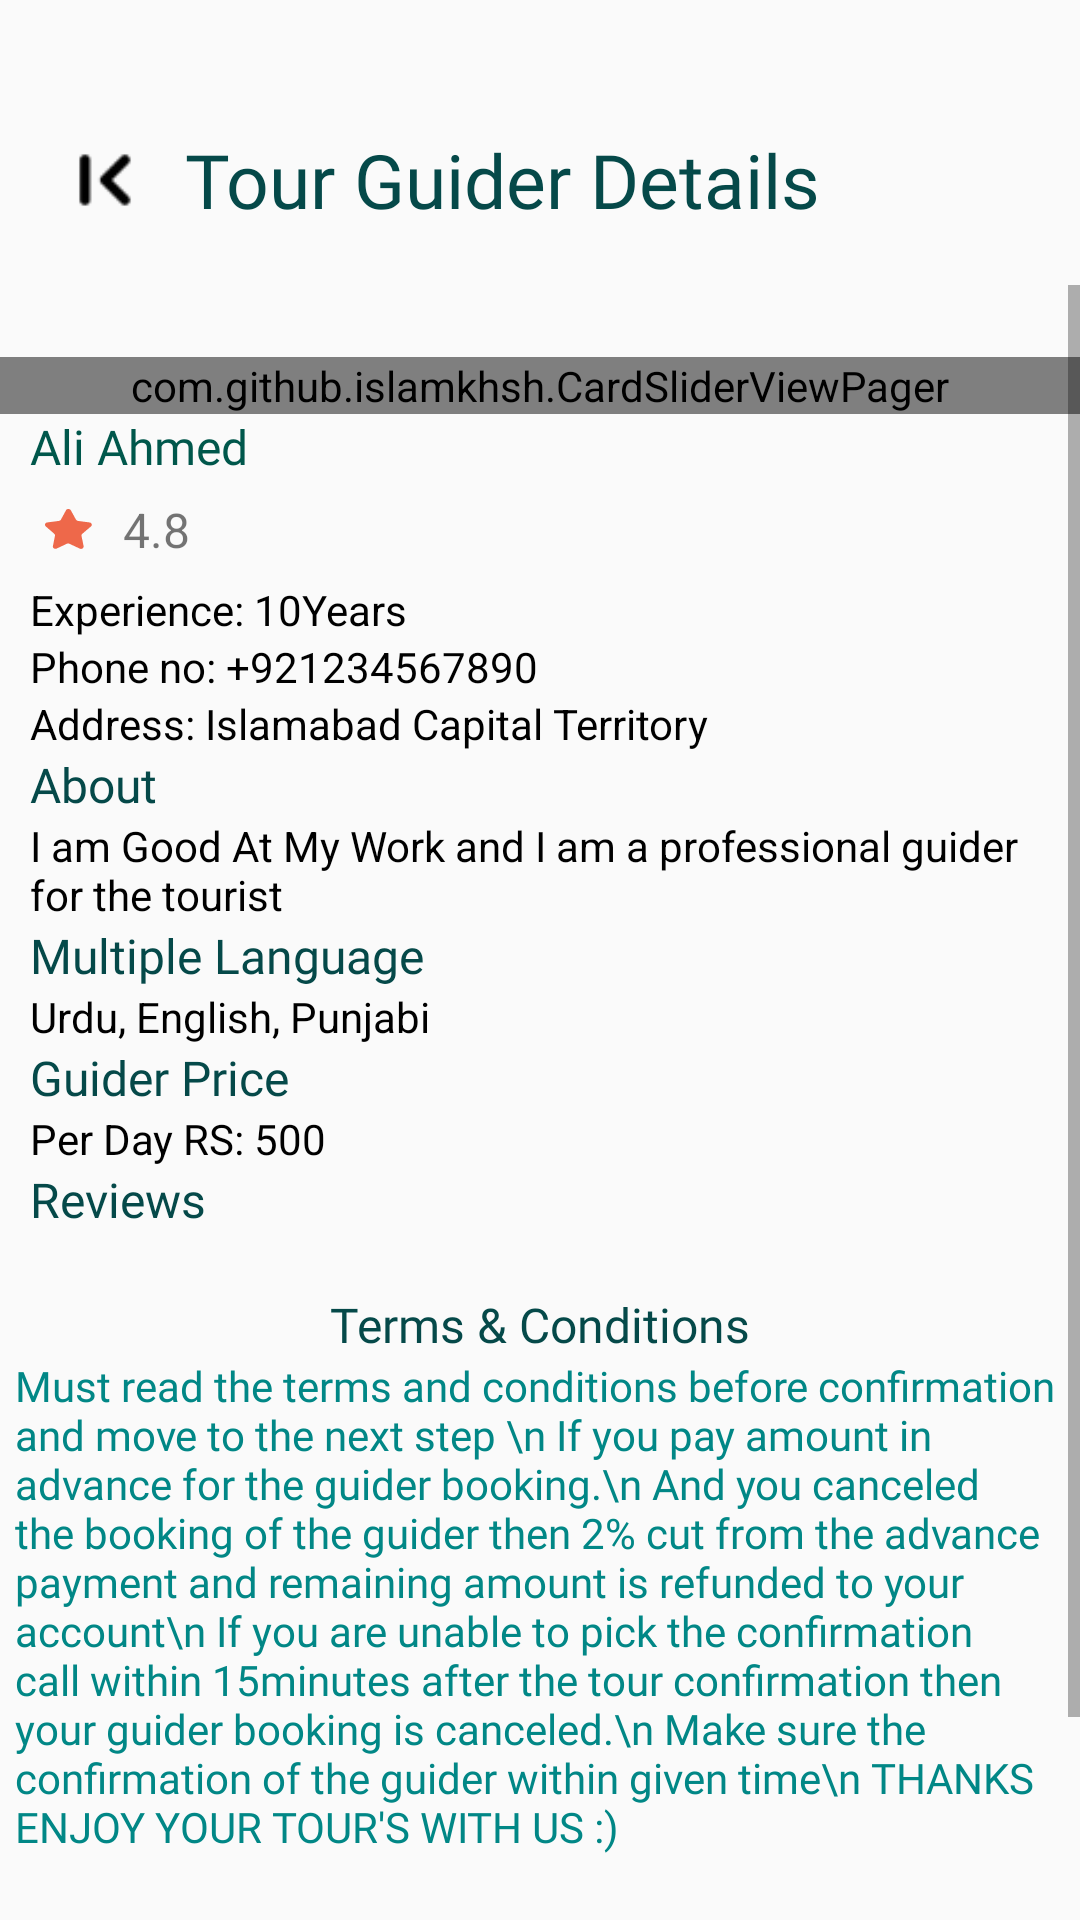

Screen size 1080px×1920px. Icon name, then its box in pixels as (x1, y1, x2, y2):
back: (79, 154, 131, 206)
star: (45, 509, 92, 549)
